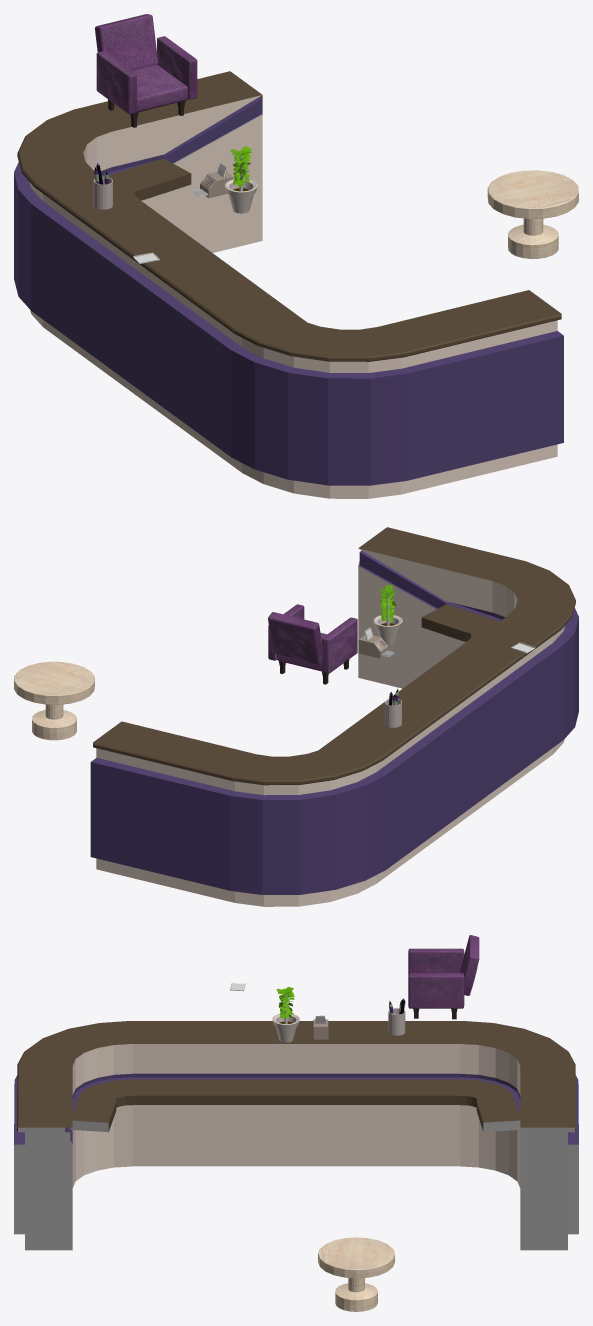
File: reception.fbx
3 views of the same model, one above another, from view 1: azimuth 30°, elevation 25°; view 2: azimuth 150°, elevation 25°; view 3: azimuth 270°, elevation 25° (orthographic). The views are drawn at different scales.
Parts seen in each view (by area): view 1: polySurface82, polySurface115, polySurface27, pCylinder10, polySurface130; view 2: polySurface82, polySurface115, polySurface27, polySurface130, pCylinder10; view 3: polySurface82, polySurface115, polySurface27, pCylinder10.
Part boxes in pixels (x1,y1,x2,y2): polySurface82: (14,71,563,498); polySurface115: (95,14,197,127); polySurface27: (487,170,578,258); pCylinder10: (225,178,257,213); polySurface130: (200,163,233,197); polySurface82: (90,527,578,906); polySurface115: (268,604,357,684); polySurface27: (14,661,94,740); polySurface130: (358,628,388,658); pCylinder10: (373,615,402,645); polySurface82: (14,998,578,1250); polySurface115: (408,935,479,1019); polySurface27: (318,1237,394,1311); pCylinder10: (272,1014,299,1042).
Bounding box in the file's own units: 12094 × 6426 × 13899.
